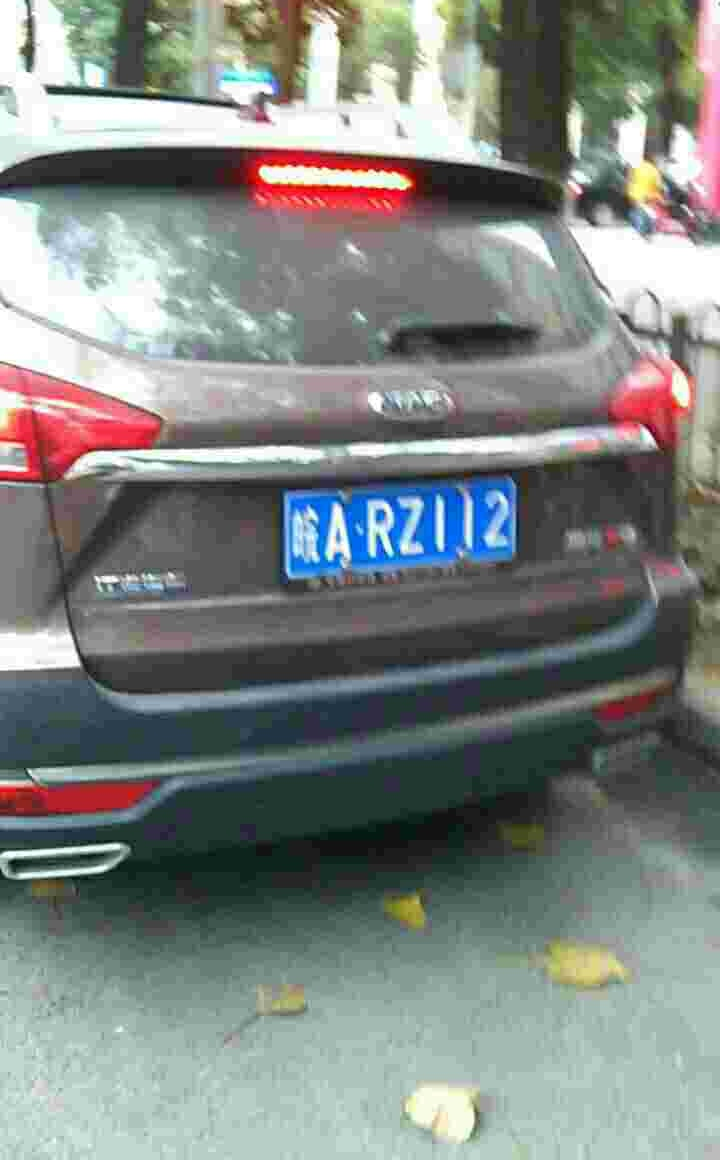license_plate: (284, 481, 510, 570)
